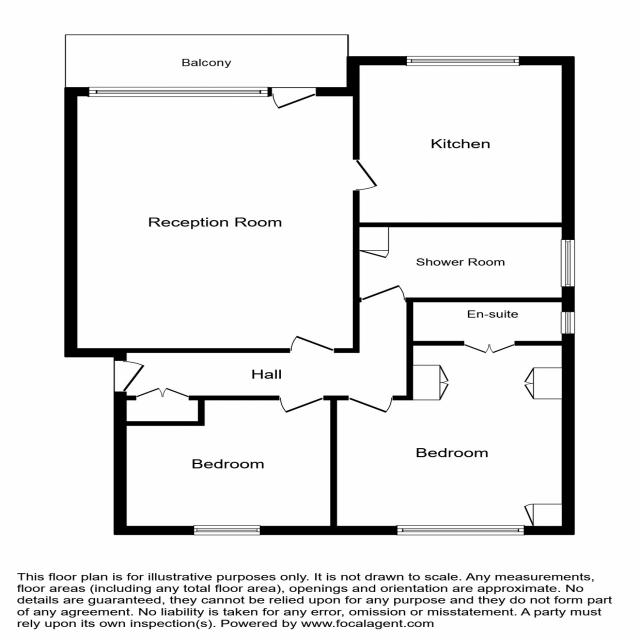DOOR: (113, 359, 147, 393), (270, 86, 317, 110), (288, 334, 336, 353), (347, 395, 394, 414), (278, 395, 325, 414), (360, 283, 407, 302), (352, 159, 379, 191)
ROOM: (64, 87, 379, 357), (330, 341, 575, 535), (346, 56, 575, 227), (113, 395, 337, 535)
WINDOW: (87, 86, 270, 97), (396, 524, 526, 536), (405, 55, 521, 67), (560, 239, 576, 288), (193, 525, 261, 536), (559, 311, 576, 335)
